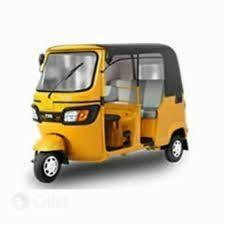keke: (29, 38, 189, 186)
